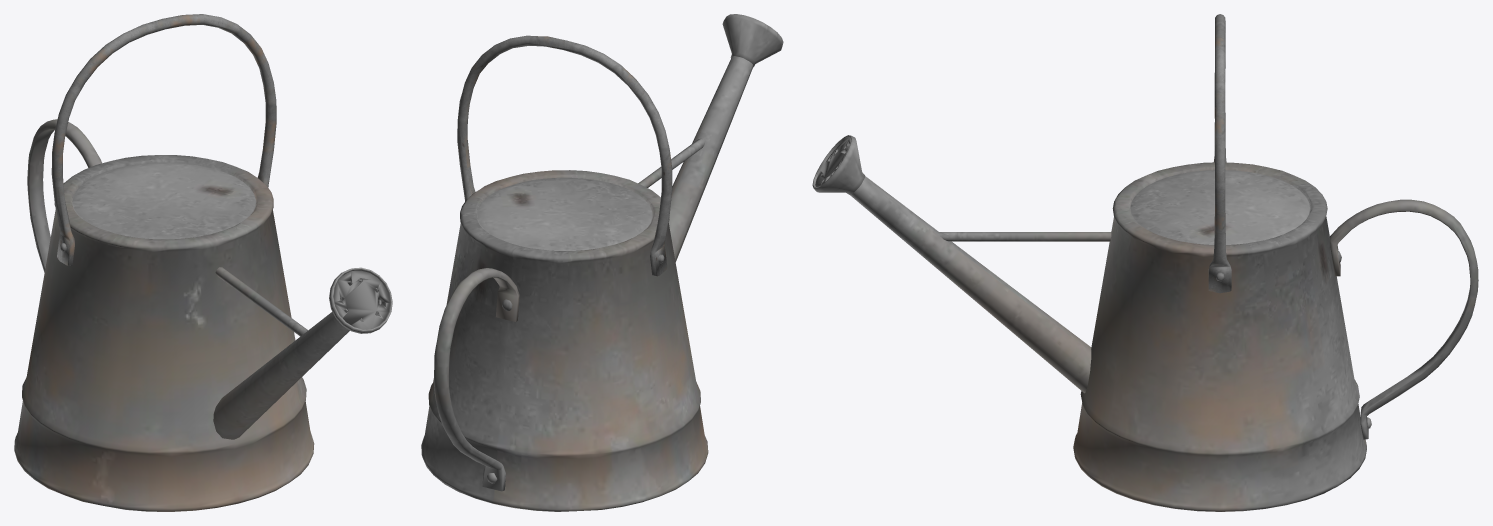
The model's file is wateringcan.glb.
The picture shows the model from 3 angles, left to right: view 1: azimuth 30°, elevation 25°; view 2: azimuth 150°, elevation 25°; view 3: azimuth 270°, elevation 25°; orthographic projection. The views are drawn at different scales.
Parts seen in each view (by area): view 1: Object_2; view 2: Object_2; view 3: Object_2.
Boxes of the visible parts, x1,y1,x2,y2 form: Object_2: [14, 14, 392, 511]; Object_2: [421, 14, 783, 511]; Object_2: [812, 14, 1478, 511].
Bounding box in the file's own units: 33.55 × 53.1 × 76.05.
Materials: 1 (1 with a texture image).
